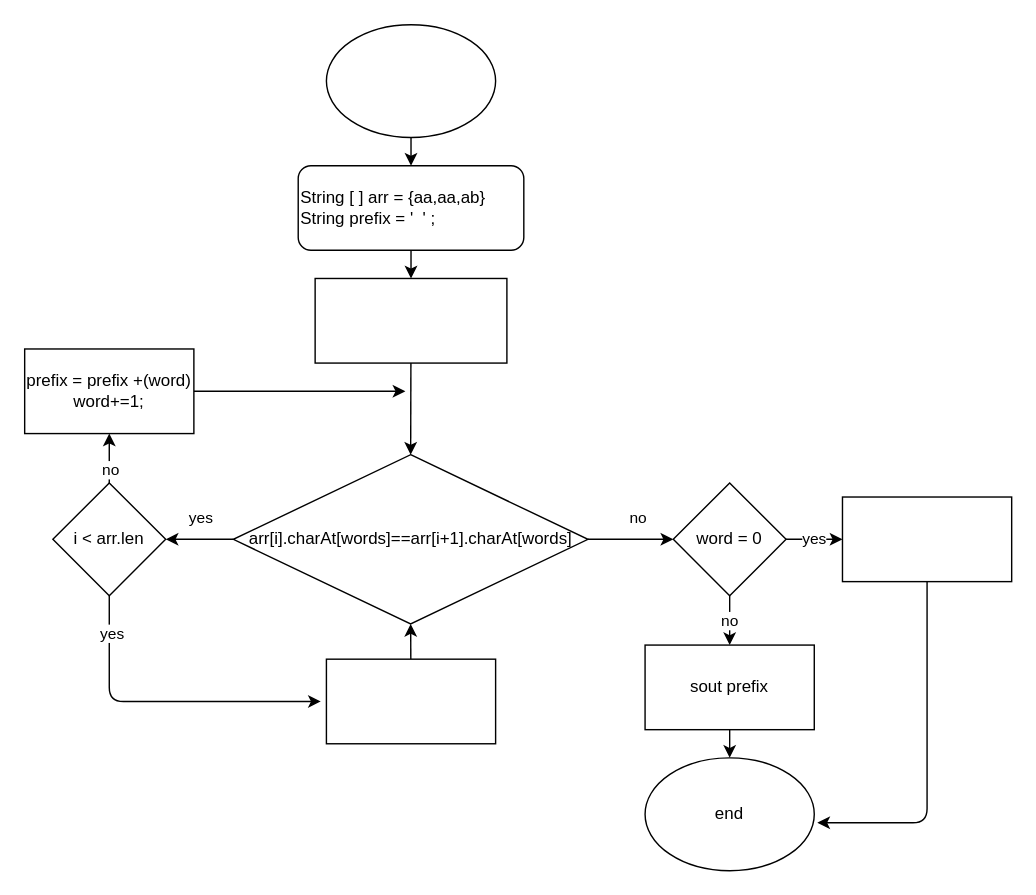
This 1036x895 diagram has some shape labels left out. The shapes that lost their labels are listed below. From the top down, each one's centre as x and y in pixels, then its label:
[410,80]: start
[410,320]: int word = arr[0].lenght() i = 0; words = 0;
[926,539]: sout " "
[410,701]: i+=1;
